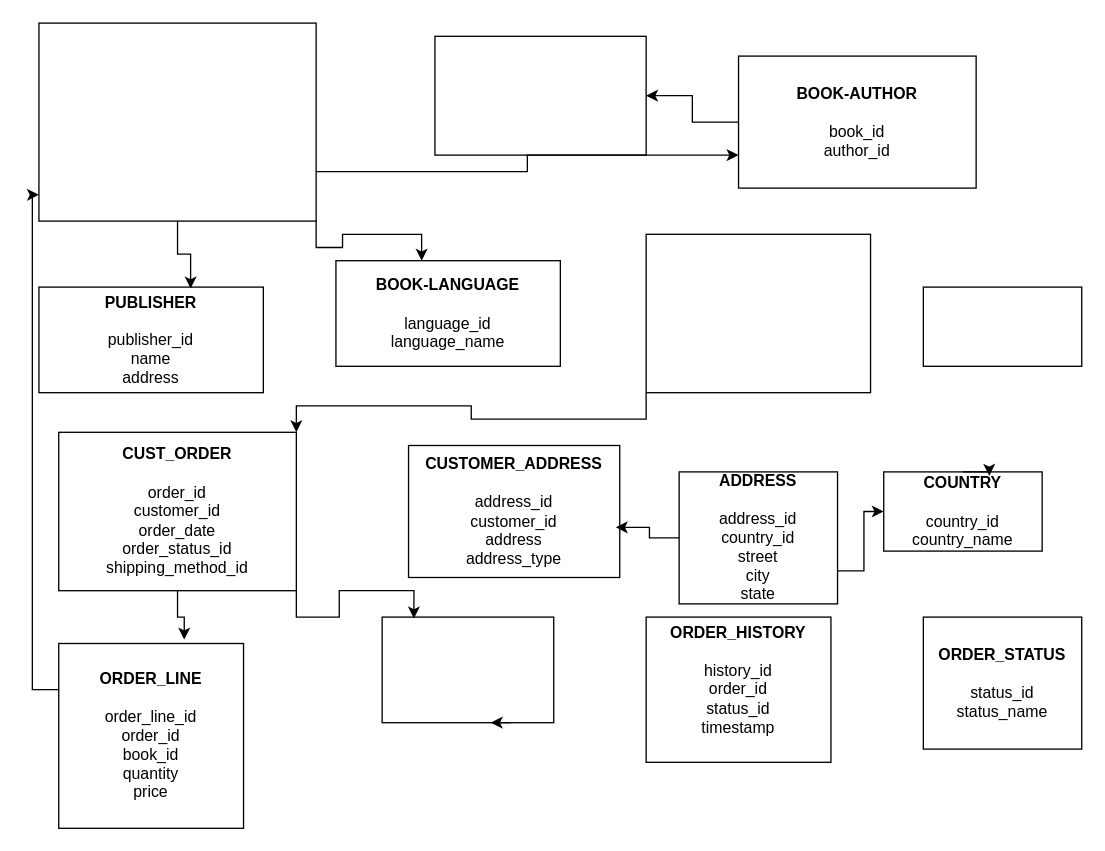
Image size: 1105x851. Some labels were removed from this diagram. The shapes that lost their labels are listed below. From the top down, each one's centre as x and y in pixels, then its label:
At (540,95): "AUTHOR author_id first_name last_name dob".
At (177,121): "BOOK book-id title isbn publisher_id language_id price publication_date".
At (758,313): "CUSTOMER customer_id first_name last_name email phone".
At (1002,326): "ADDRESS_STATUS status_id status_name".
At (467,669): "SHIPPING_METHOD shipping_method_id method_name cost".
